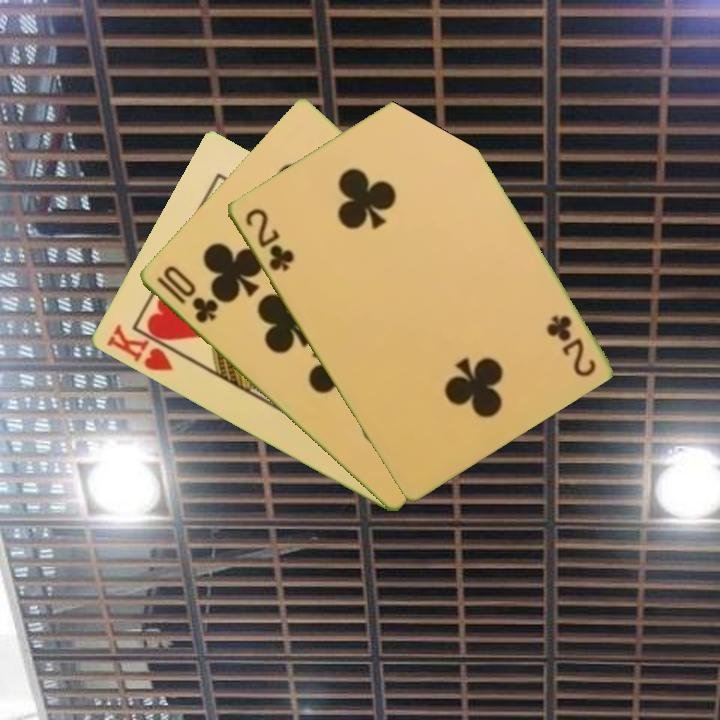10c: (153, 262, 221, 327)
2c: (241, 204, 297, 274), (543, 311, 598, 380)
Kh: (102, 320, 186, 375)
